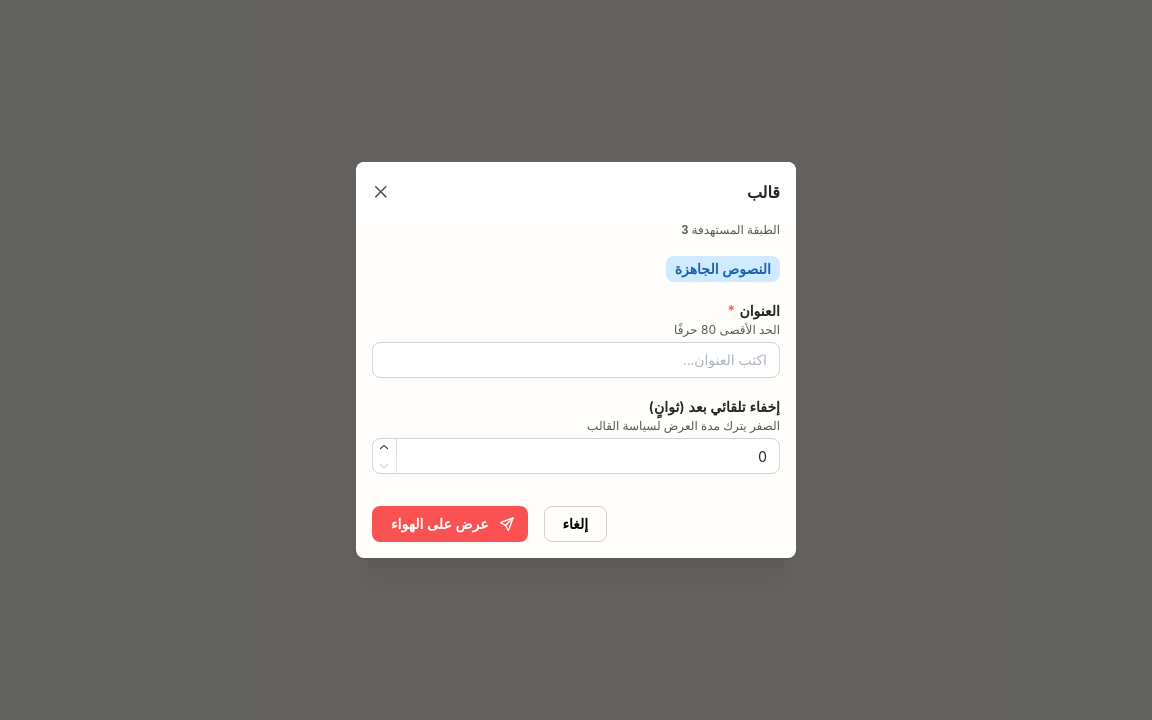
Test: shows shared template text without overwriting the operator until they choose to reuse it
The width and height of the screenshot is (1152, 720).
In the field labelled "العنوان *": [576, 360] box [372,342,780,378], type "مسودة الويب"
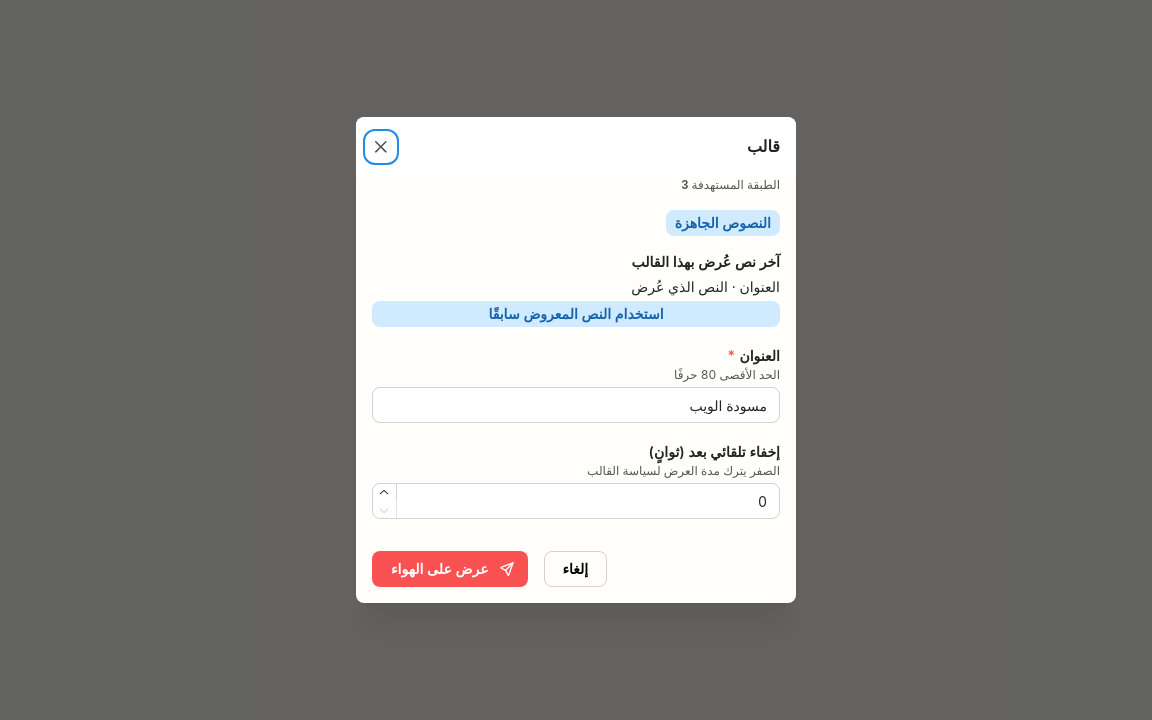
Click the button "استخدام النص المعروض سابقًا": [576, 314] box [372,301,780,327]
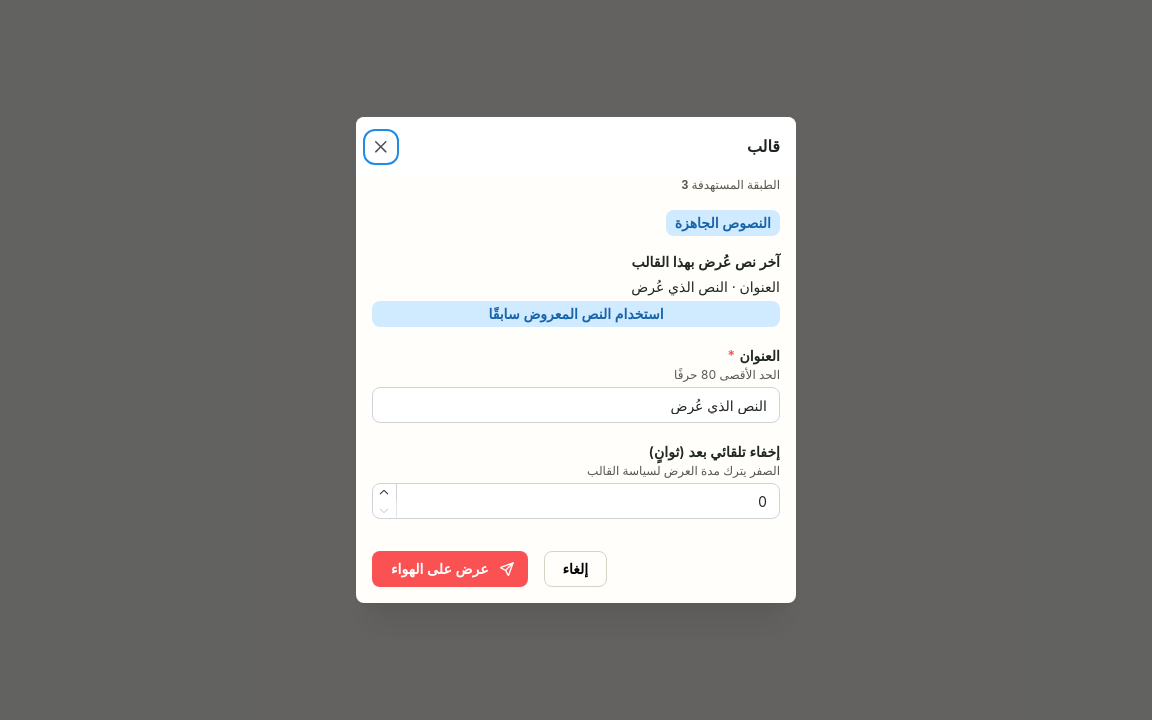
Result: the field labelled "العنوان *" holds "النص الذي عُرض" at [372,387,780,423]
